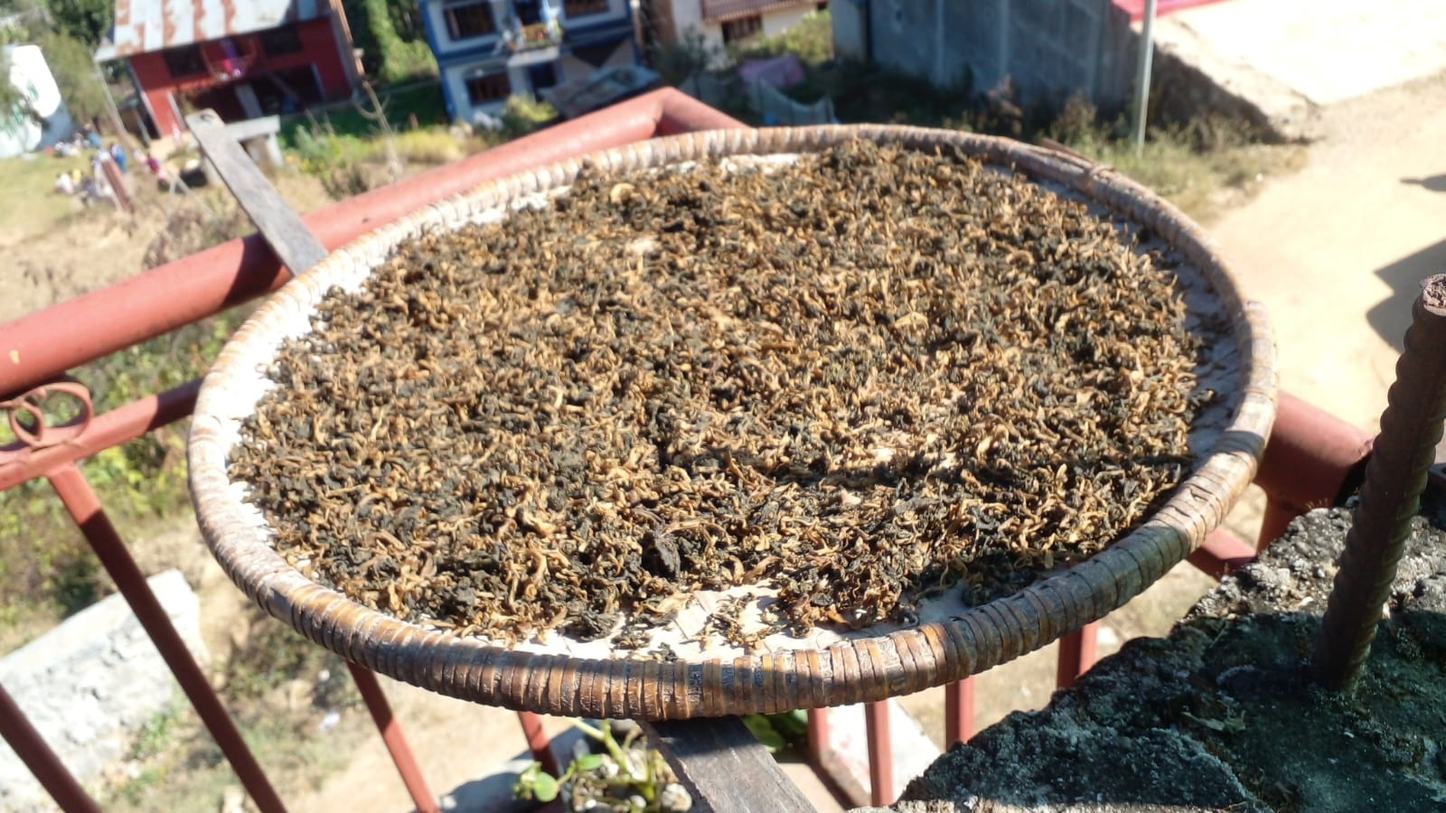gundruk: (239, 145, 1173, 589)
